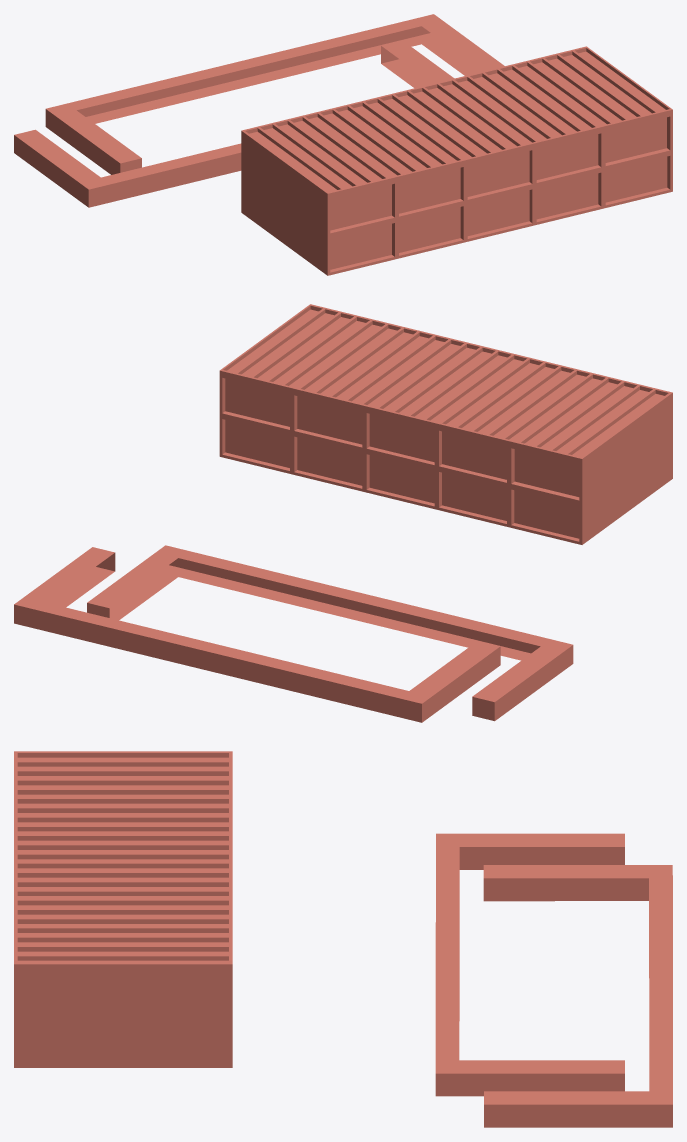
The model's file is masp.glb.
3 views of the same model, one above another, from view 1: azimuth 30°, elevation 25°; view 2: azimuth 150°, elevation 25°; view 3: azimuth 270°, elevation 25° (orthographic). The views are drawn at different scales.
Visible parts, largest first — view 1: masp_colunas; view 2: masp_colunas; view 3: masp_colunas.
Part boxes in pixels (x1,y1,x2,y2): masp_colunas: [14, 14, 672, 275]; masp_colunas: [14, 304, 672, 722]; masp_colunas: [14, 751, 672, 1127].
Bounding box in the file's own units: 71.94 × 18.58 × 74.
